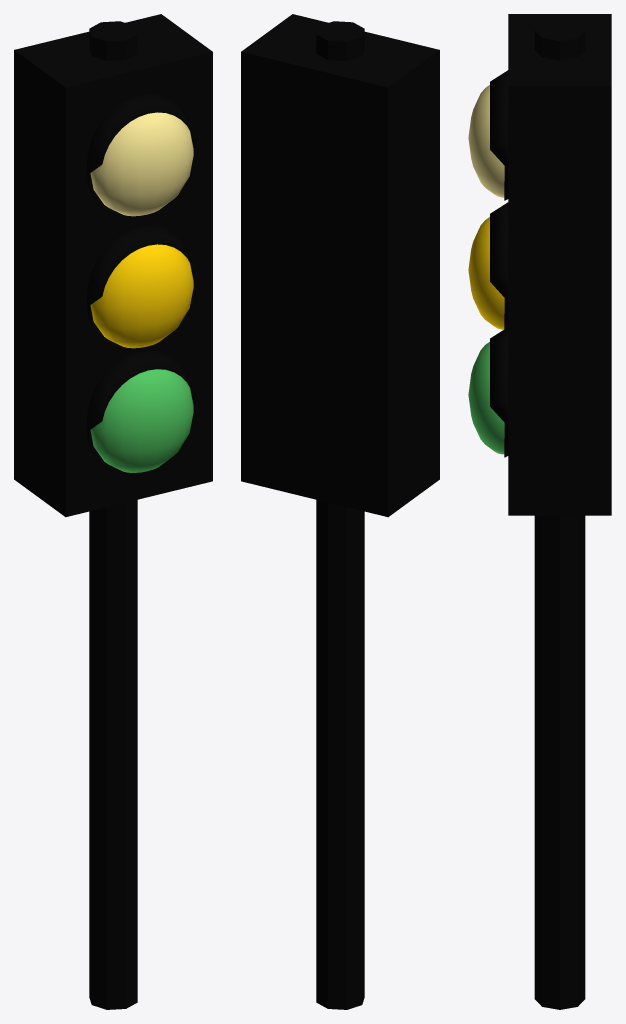
The model's file is trafficlamp.fbx.
3 renders of one model, left to right at view 1: azimuth 30°, elevation 25°; view 2: azimuth 150°, elevation 25°; view 3: azimuth 270°, elevation 25°, orthographic.
Visible parts, largest first — view 1: lv2_trafficlamp; view 2: lv2_trafficlamp; view 3: lv2_trafficlamp.
Part boxes in pixels (left/top/right/bottom): lv2_trafficlamp: left=14, top=14, right=212, bottom=1009; lv2_trafficlamp: left=241, top=14, right=439, bottom=1009; lv2_trafficlamp: left=468, top=14, right=611, bottom=1009.
Bounding box in the file's own units: 102 × 640 × 85.69.
